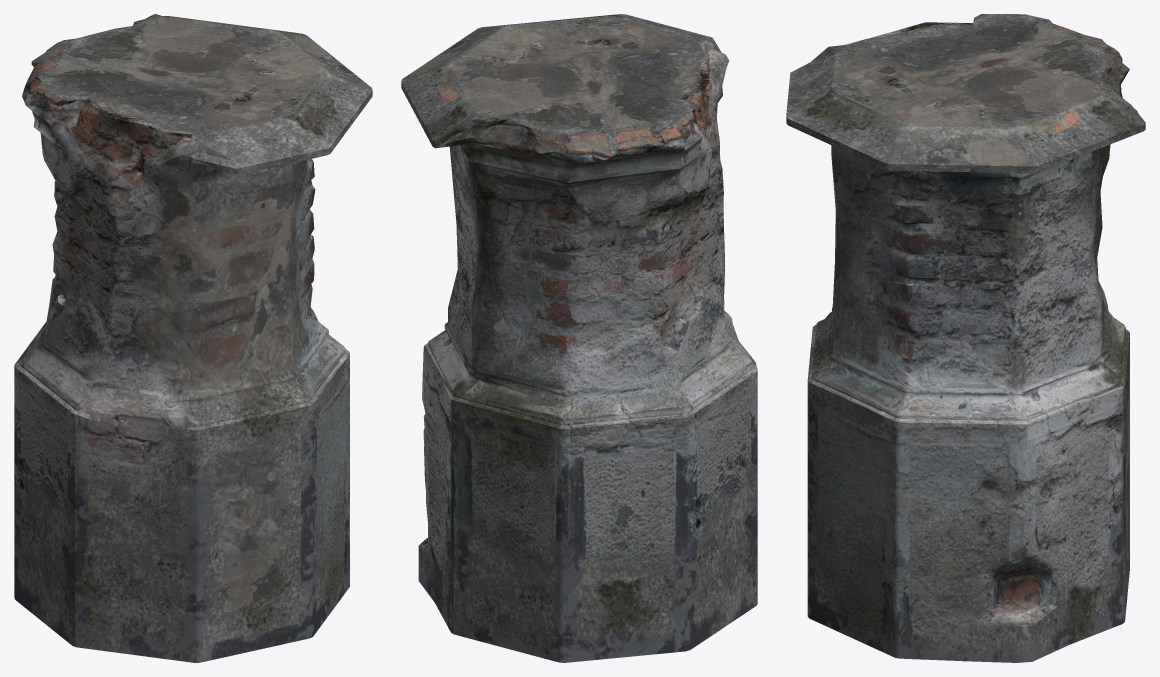
The model's file is sm_ChapelColumnPedestal_01_02.fbx.
3 renders of one model, left to right at view 1: azimuth 30°, elevation 25°; view 2: azimuth 150°, elevation 25°; view 3: azimuth 270°, elevation 25°, orthographic.
Visible parts, largest first — view 1: sm_ChapelColumnPedestal_01_02_LOD0; view 2: sm_ChapelColumnPedestal_01_02_LOD0; view 3: sm_ChapelColumnPedestal_01_02_LOD0.
Boxes of the visible parts, bbox=[...] form: sm_ChapelColumnPedestal_01_02_LOD0: bbox=[14, 14, 372, 662]; sm_ChapelColumnPedestal_01_02_LOD0: bbox=[401, 14, 757, 662]; sm_ChapelColumnPedestal_01_02_LOD0: bbox=[786, 14, 1145, 662].
Bounding box in the file's own units: 121 × 126 × 203.
